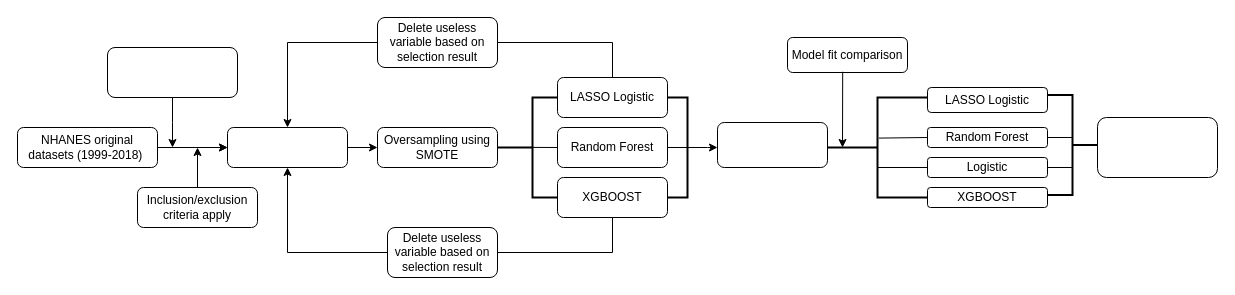
This 1235x295 diagram has some shape labels left out. The shapes that lost their labels are listed below. From the top down, each one's box as (x1, y1, x2, y2) in pixels, then its label:
(106, 46, 238, 98): Basic data merge and cleaning
(226, 126, 348, 168): Dataset used for analysis
(716, 122, 828, 168): Combine overlapping results by year
(1096, 116, 1218, 178): Model Evaluation
